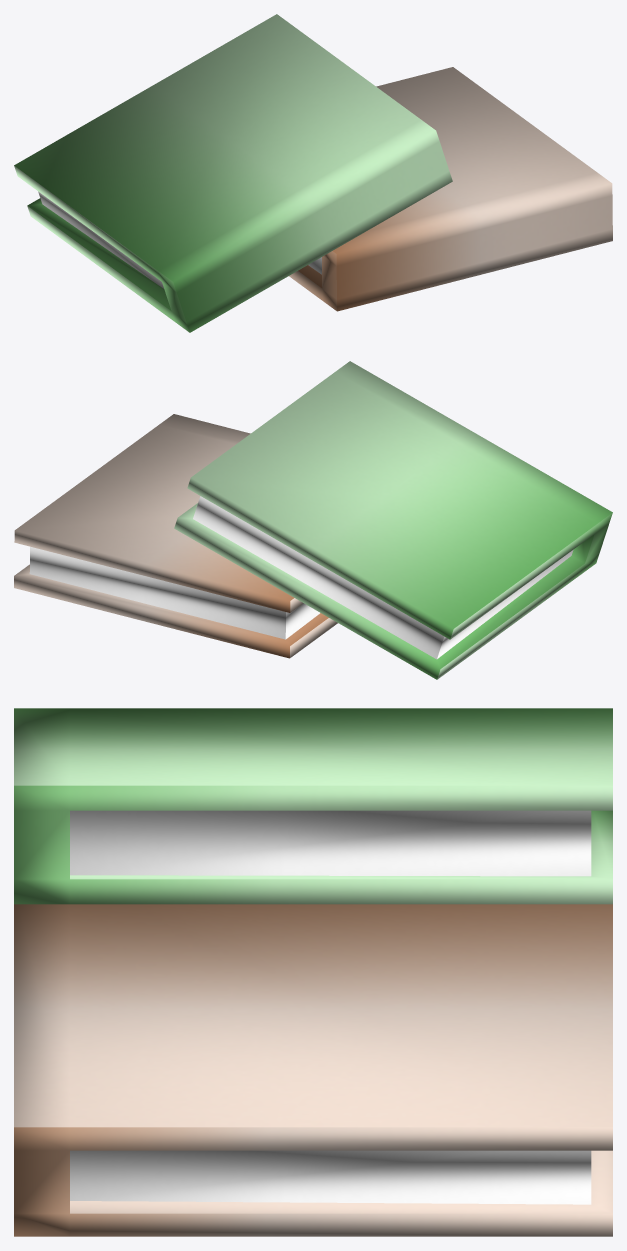
File: Props_Book_02.fbx
3 views of the same model, one above another, from view 1: azimuth 30°, elevation 25°; view 2: azimuth 150°, elevation 25°; view 3: azimuth 270°, elevation 25° (orthographic). The views are drawn at different scales.
Parts seen in each view (by area): view 1: Props_Book_02; view 2: Props_Book_02; view 3: Props_Book_02.
Part boxes in pixels (left/top/right/bottom): Props_Book_02: left=14, top=14, right=612, bottom=332; Props_Book_02: left=14, top=361, right=612, bottom=679; Props_Book_02: left=14, top=708, right=612, bottom=1236.
Bounding box in the file's own units: 80.66 × 27.49 × 50.6.
